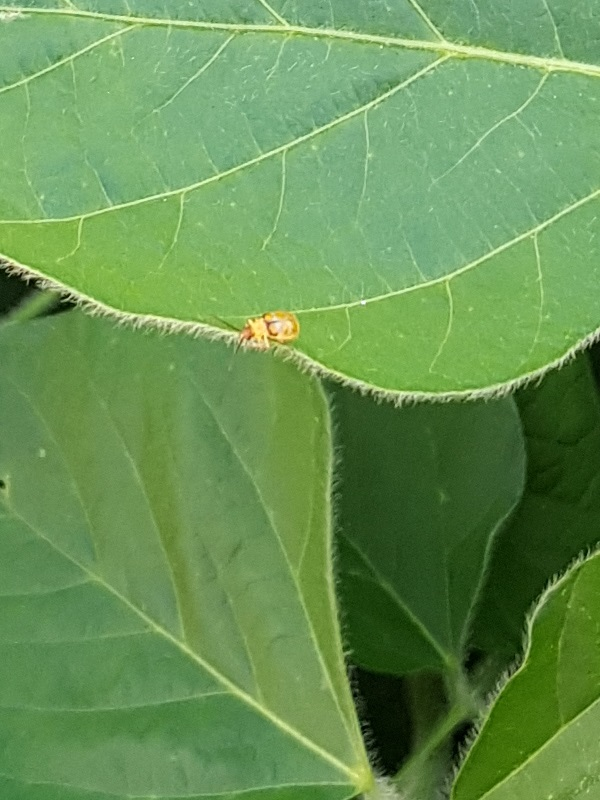Diabrotica_speciosa: (208, 291, 309, 378)
